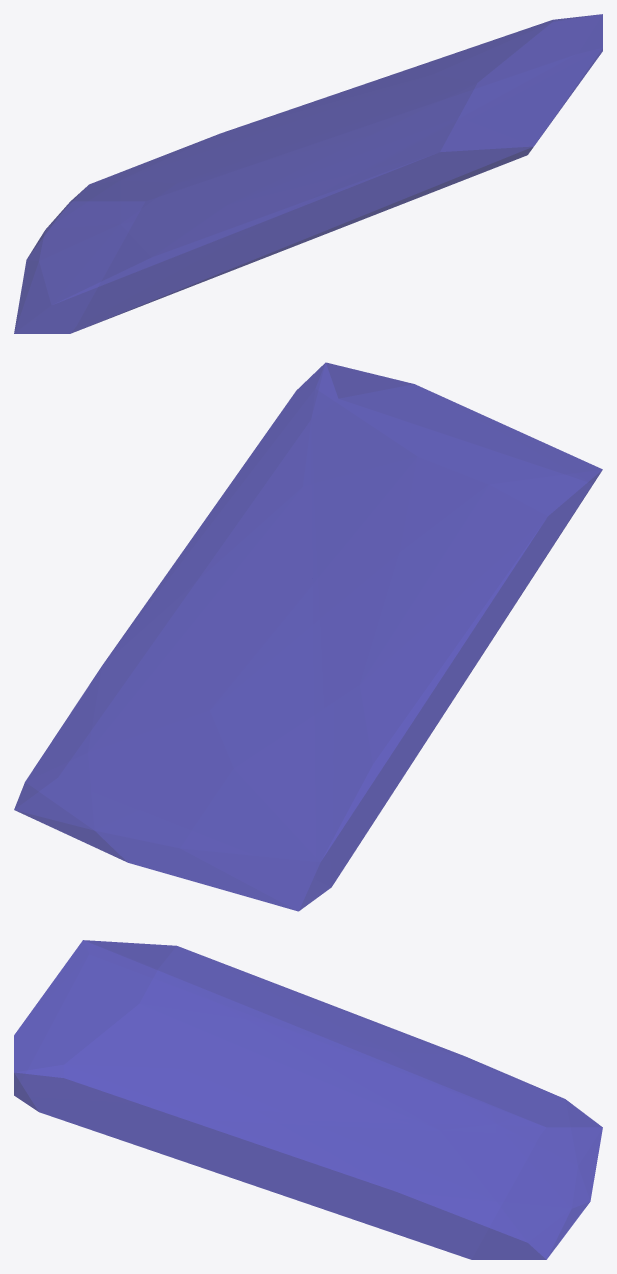
3 renders of one model, top to bottom at view 1: azimuth 90°, elevation 25°; view 2: azimuth 150°, elevation 25°; view 3: azimuth 270°, elevation 25°, orthographic. The views are drawn at different scales.
Parts seen in each view (by area): view 1: Shape_IndexedFaceSet.013_Shape_IndexedFaceSet.4567; view 2: Shape_IndexedFaceSet.013_Shape_IndexedFaceSet.4567; view 3: Shape_IndexedFaceSet.013_Shape_IndexedFaceSet.4567.
Boxes of the visible parts, x1,y1,x2,y2 form: Shape_IndexedFaceSet.013_Shape_IndexedFaceSet.4567: (14,14,602,333); Shape_IndexedFaceSet.013_Shape_IndexedFaceSet.4567: (14,362,602,911); Shape_IndexedFaceSet.013_Shape_IndexedFaceSet.4567: (14,940,602,1259).
Size of the model in its own units: 0.0759 by 0.0501 by 0.1427.
